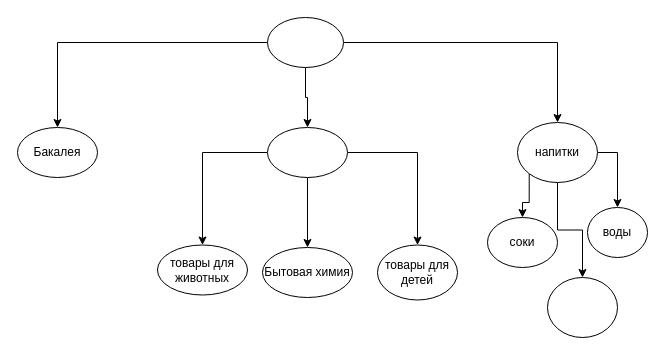
This 665x355 diagram has some shape labels left out. The centre of each missing label's shape, as x and y in pixels:
"алкоголь" goes at point (582, 307).
"Для дома" goes at point (307, 152).
"Корень (продукты)" goes at point (305, 42).
